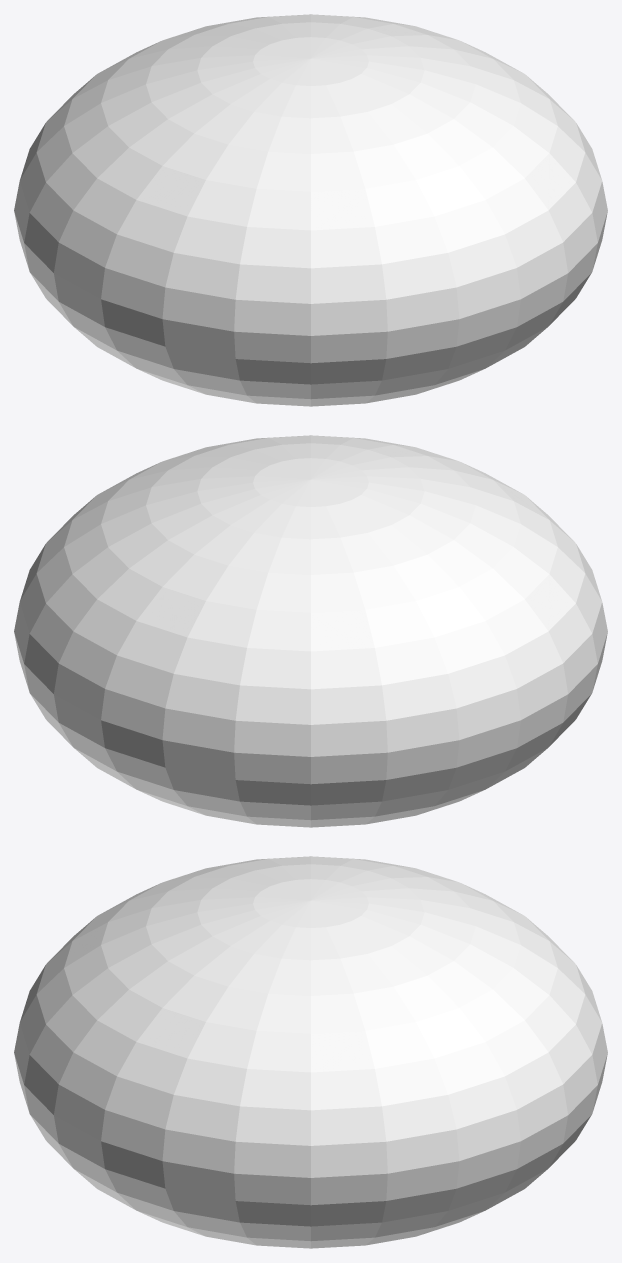
Rendered from queen_web.obj.
3 views of the same model, one above another, from view 1: azimuth 30°, elevation 25°; view 2: azimuth 150°, elevation 25°; view 3: azimuth 270°, elevation 25° (orthographic).
Visible parts, largest first — view 1: Sphere; view 2: Sphere; view 3: Sphere.
Boxes of the visible parts, box(x1,y1,x2,y2) form: Sphere: box(14, 14, 607, 406); Sphere: box(14, 435, 607, 827); Sphere: box(14, 856, 607, 1248).
Bounding box in the file's own units: 3.55 × 2 × 3.55.
